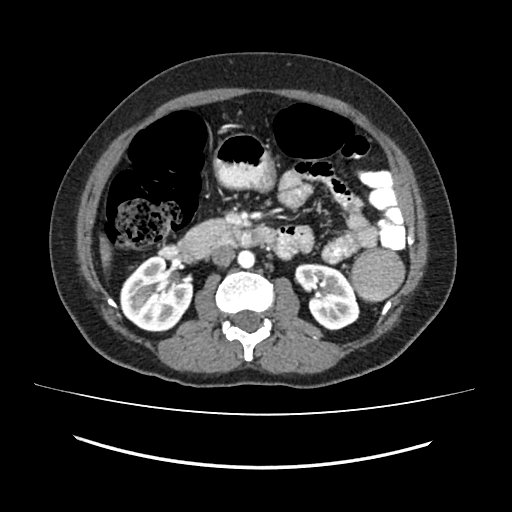aorta: (237, 255, 250, 269)
